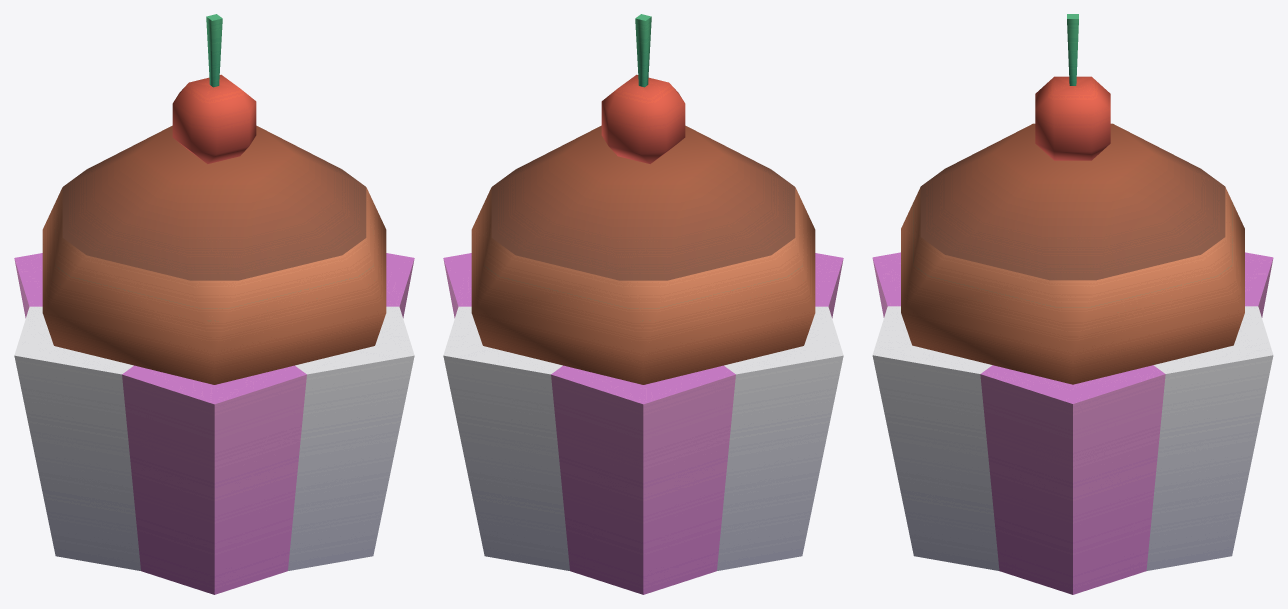
The model's file is cupcake.glb.
3 views of the same model, side by side, from view 1: azimuth 30°, elevation 25°; view 2: azimuth 150°, elevation 25°; view 3: azimuth 270°, elevation 25° (orthographic).
Parts seen in each view (by area): view 1: cupcake, cake, cherry; view 2: cupcake, cake, cherry; view 3: cupcake, cake, cherry.
Part boxes in pixels (x1=…): cupcake: x1=14, y1=253, x2=414, y2=594; cake: x1=42, y1=125, x2=386, y2=384; cherry: x1=172, y1=14, x2=256, y2=163; cupcake: x1=443, y1=253, x2=843, y2=594; cake: x1=471, y1=125, x2=815, y2=384; cherry: x1=601, y1=14, x2=685, y2=163; cupcake: x1=872, y1=252, x2=1273, y2=594; cake: x1=901, y1=123, x2=1244, y2=384; cherry: x1=1035, y1=14, x2=1110, y2=160.
Bounding box in the file's own units: 0.3552 × 0.4238 × 0.3076.
1 material, 1 textured.
